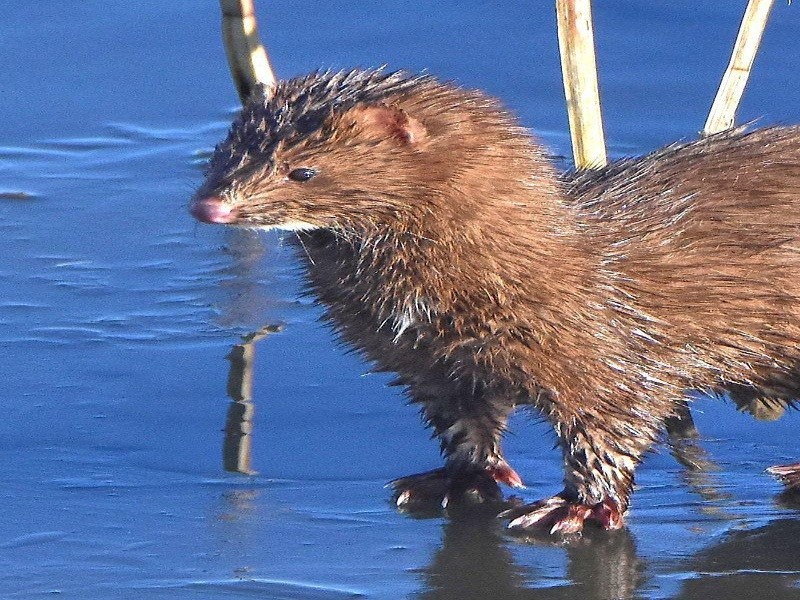minkish: (183, 63, 800, 549)
